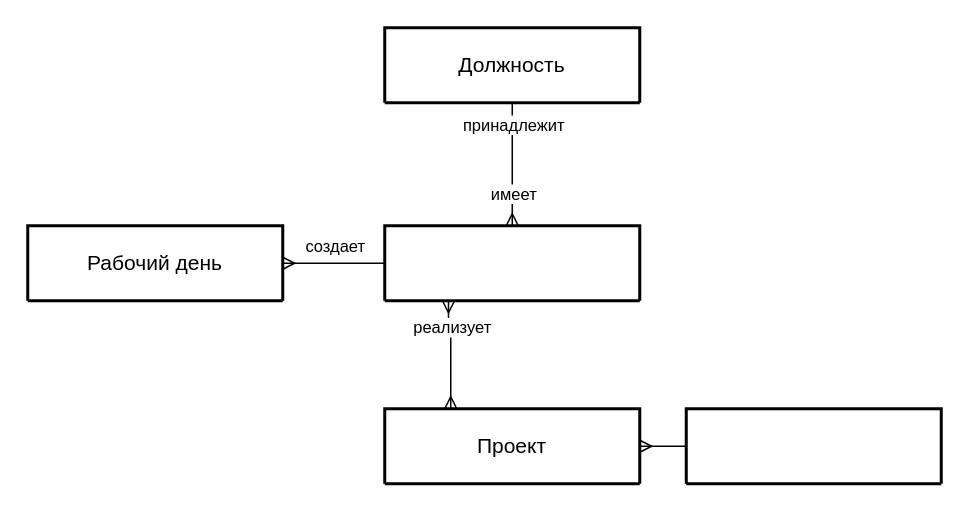
This 968x510 diagram has some shape labels left out. The shapes that lost their labels are listed below. From the top down, each one's centre as x and y in pixels, then its label:
At (x=511, y=263): "Пользователь".
At (x=813, y=445): "Заказчик".
